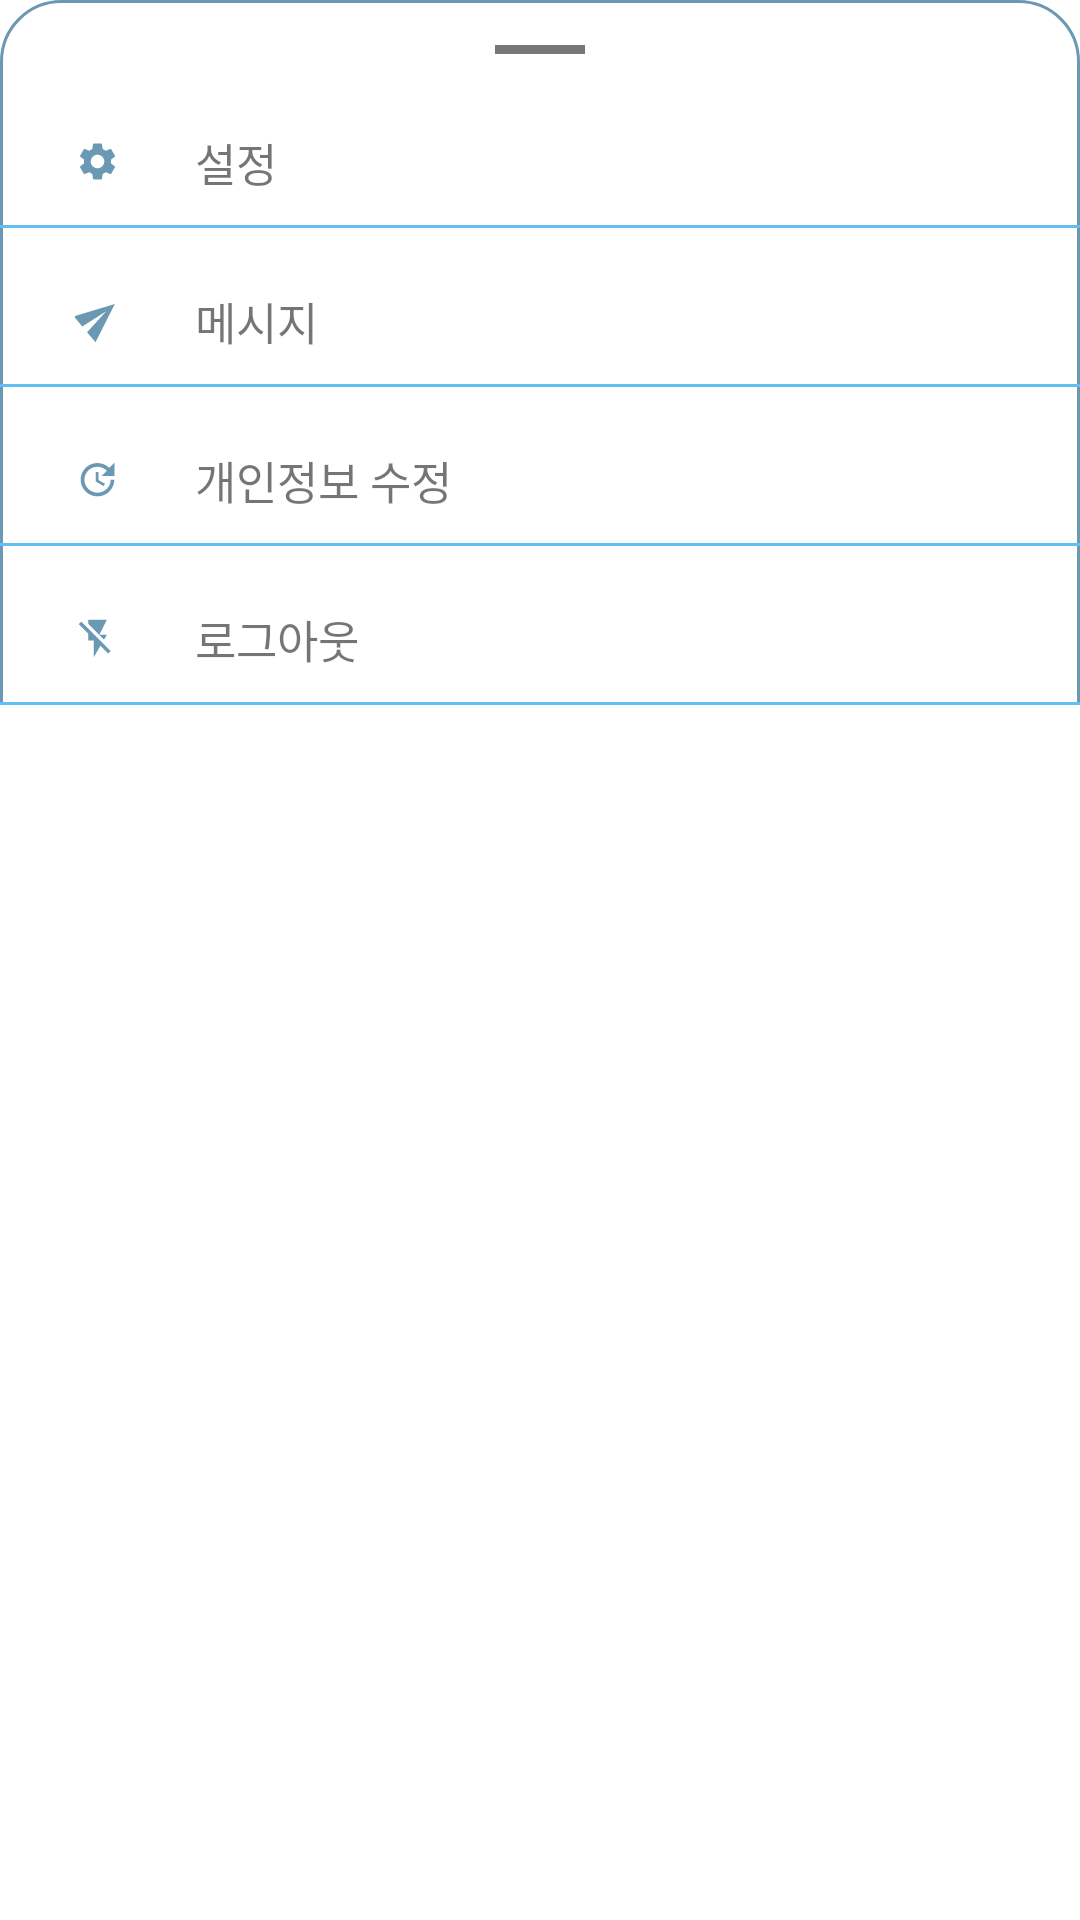

Where to tap for icons on this 1080w x 1920h app screen, as point (x, y):
flash off: point (95, 638)
send: point (95, 323)
settings: point (97, 161)
update: point (97, 480)
